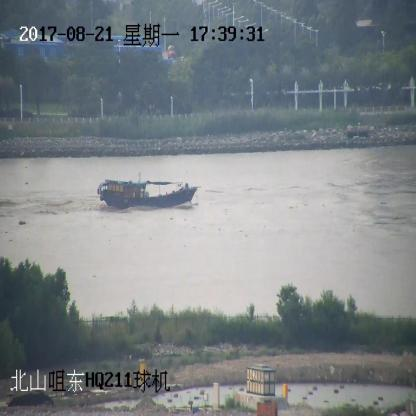Fishing Boat: (98, 176, 197, 209)
